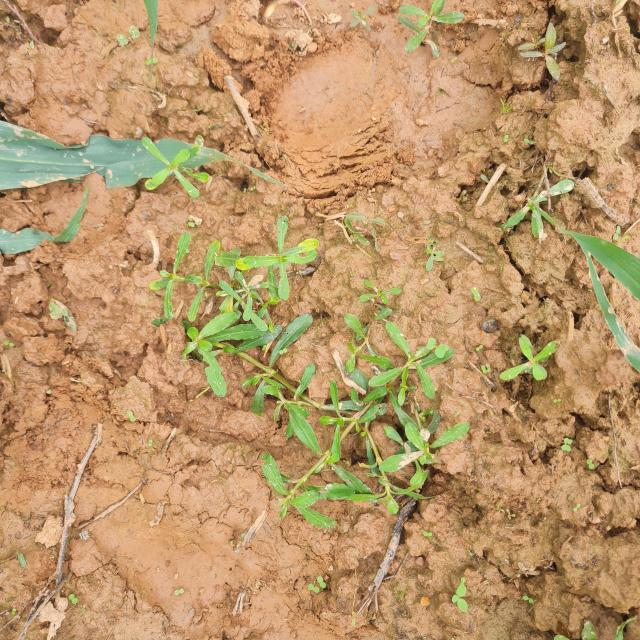weed: (233, 445, 336, 547), (367, 308, 455, 393), (235, 224, 333, 294), (495, 168, 577, 240), (391, 1, 476, 68), (131, 226, 192, 318), (136, 130, 212, 203), (513, 16, 580, 96), (543, 603, 633, 640), (502, 326, 556, 385), (190, 237, 220, 335), (429, 579, 482, 620)
